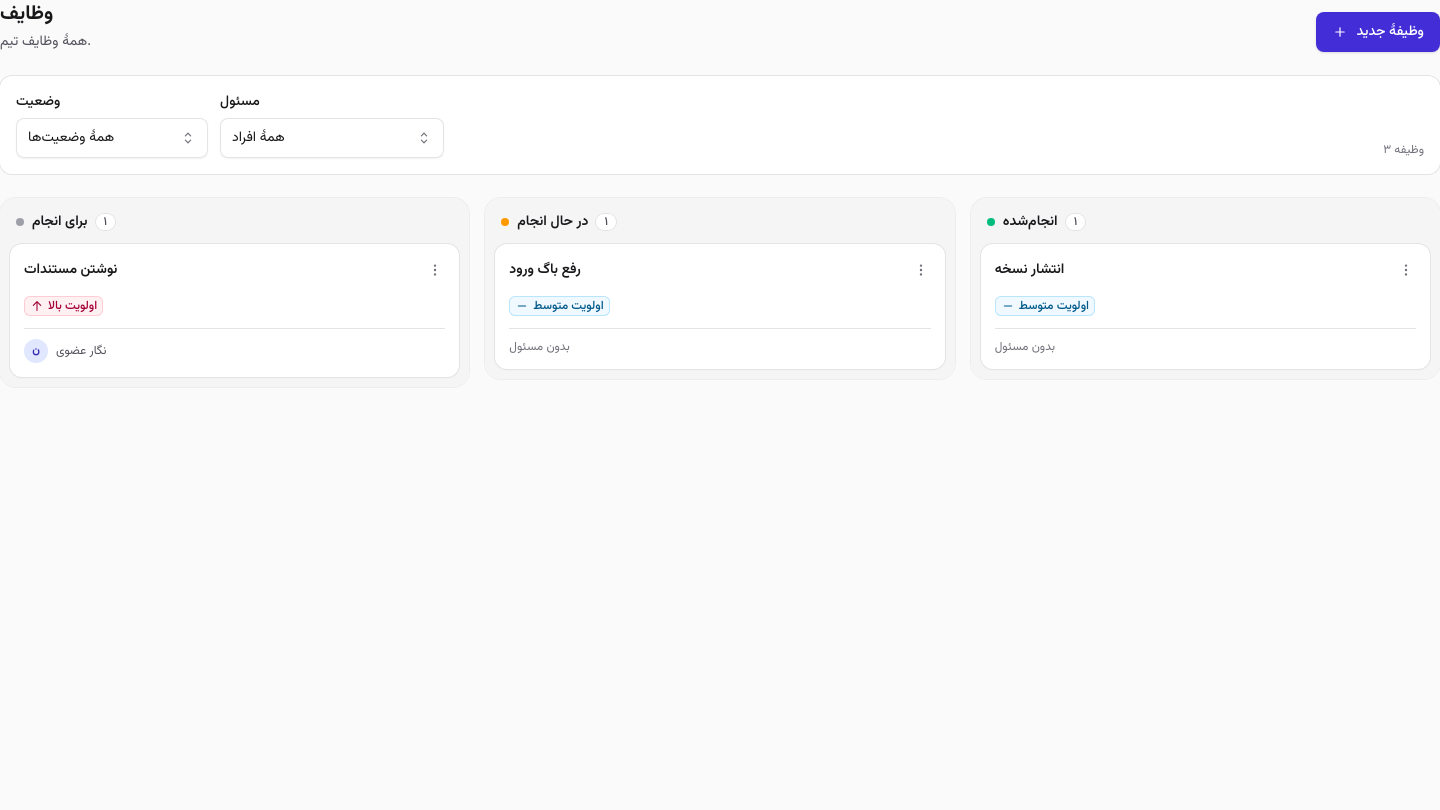
Test: TaskBoard › keeps the dialog open with input preserved when saving fails
expect the button "نوشتن مستندات" is shown: met, box [24, 258, 117, 282]
Click the button "وظیفهٔ جدید" at [1378, 32], box [1316, 12, 1439, 52]
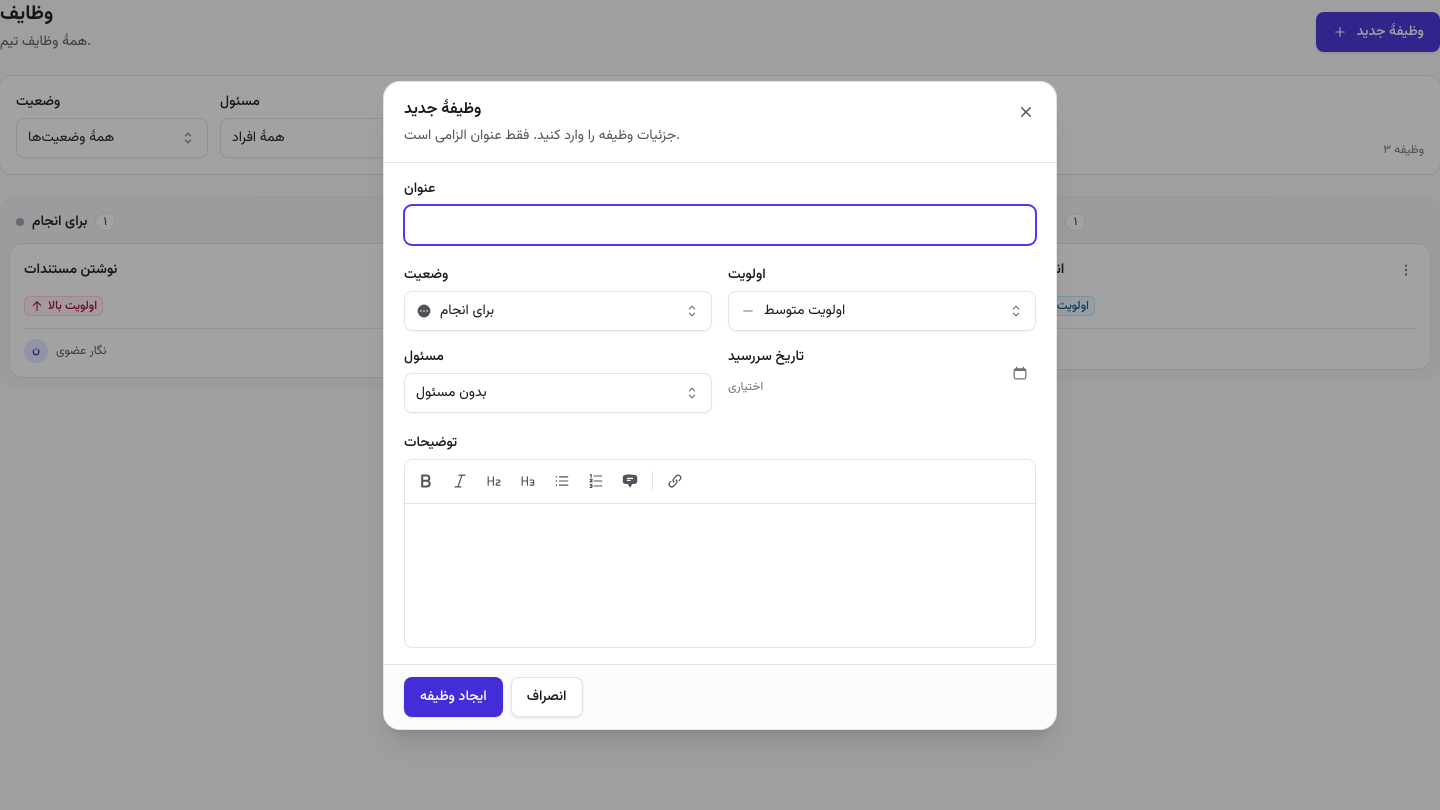
Type "وظیفهٔ ممنوع" into the field labelled "عنوان" at [720, 224], box [404, 204, 1036, 244]
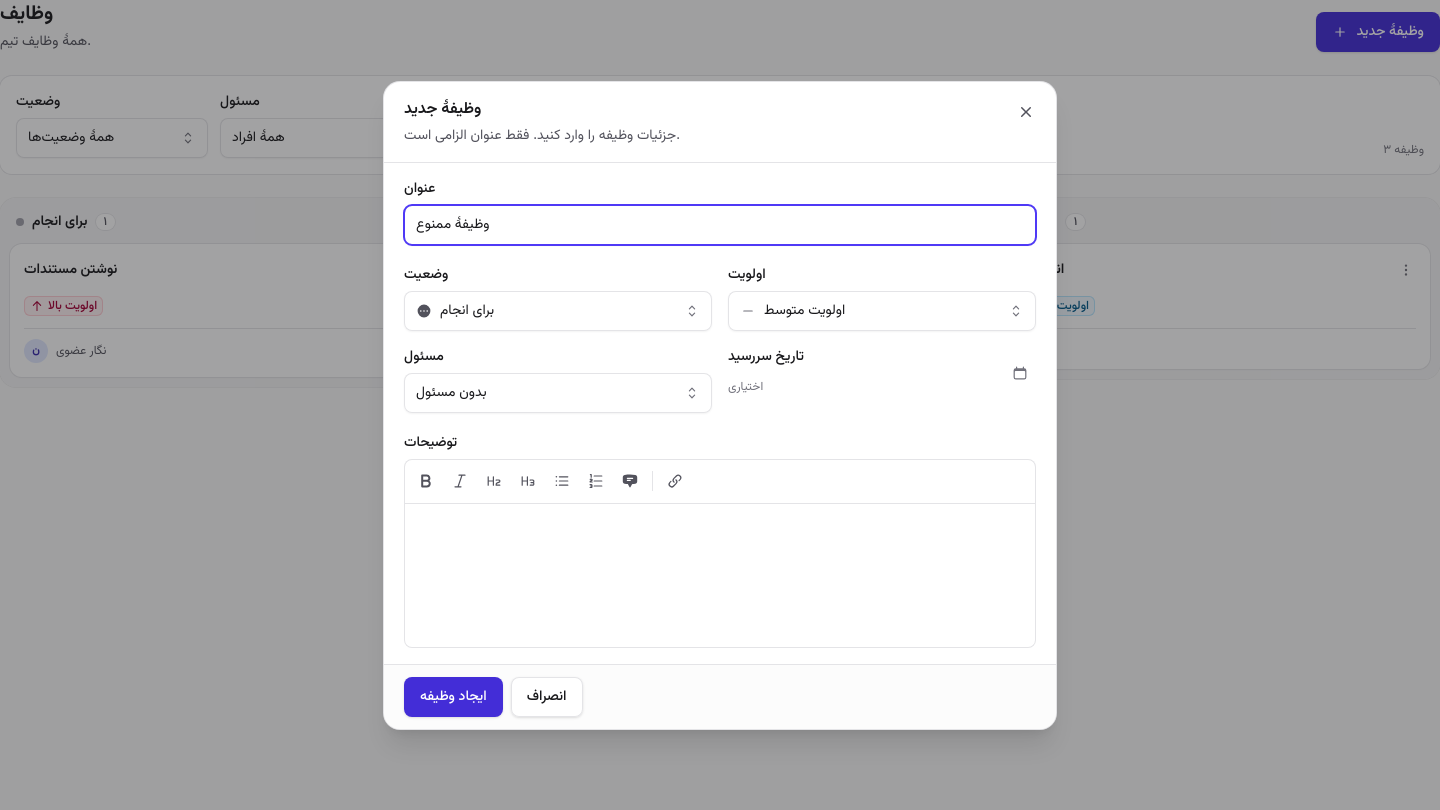
Click the button "ایجاد وظیفه" at [453, 696], box [404, 676, 503, 716]
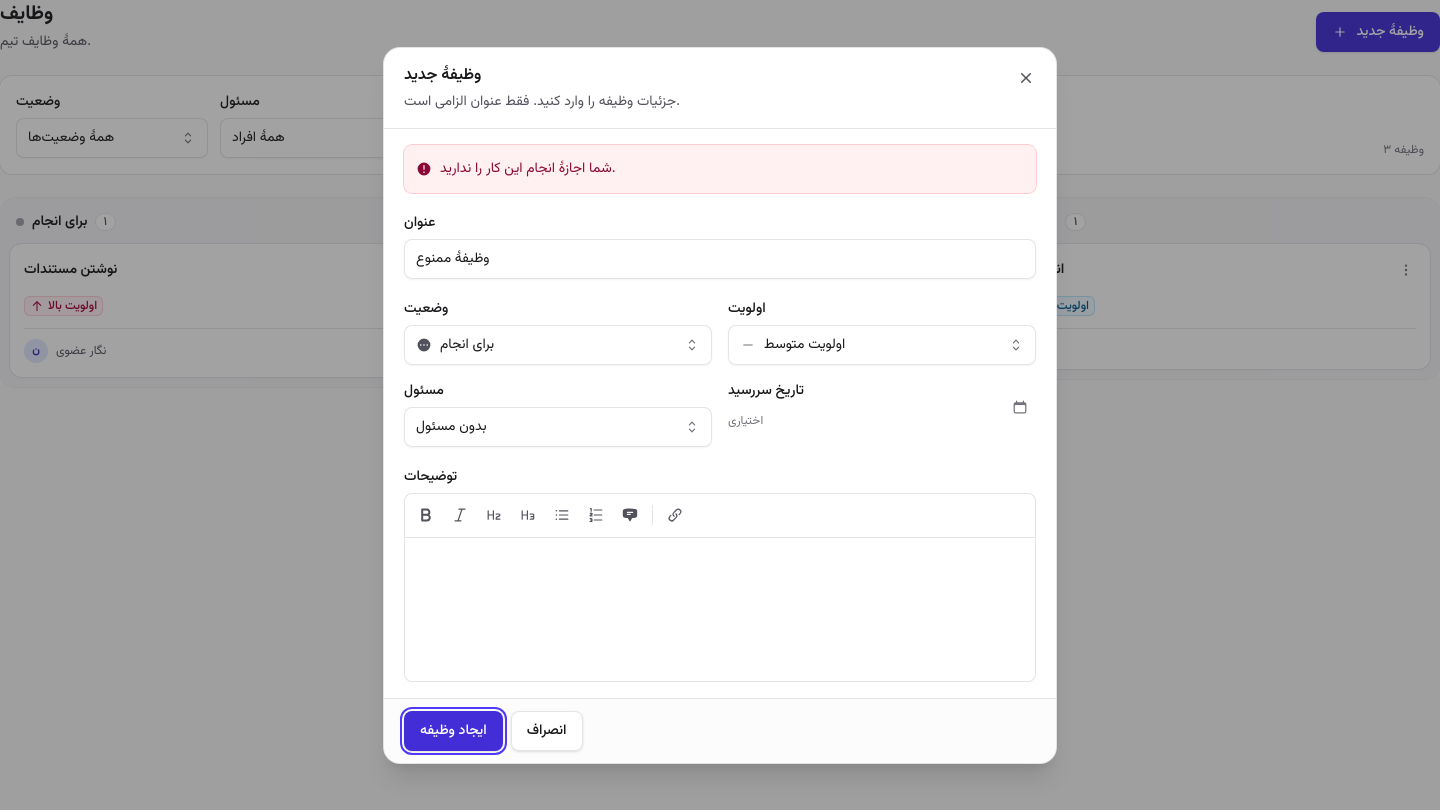
expect the message shows "اجازه": met, box [440, 158, 616, 180]
